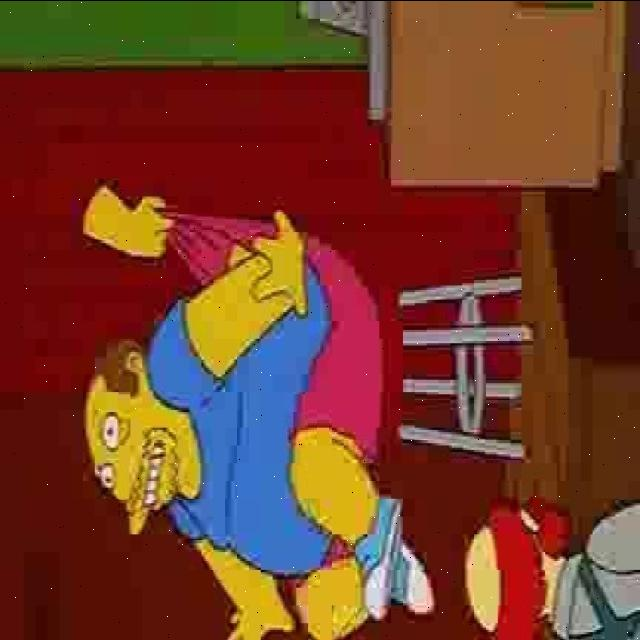Comic Book Guy: (81, 326, 206, 544)
